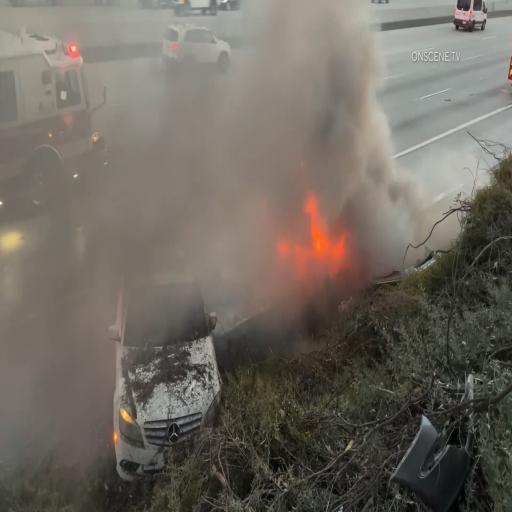smoke: (211, 0, 427, 272)
